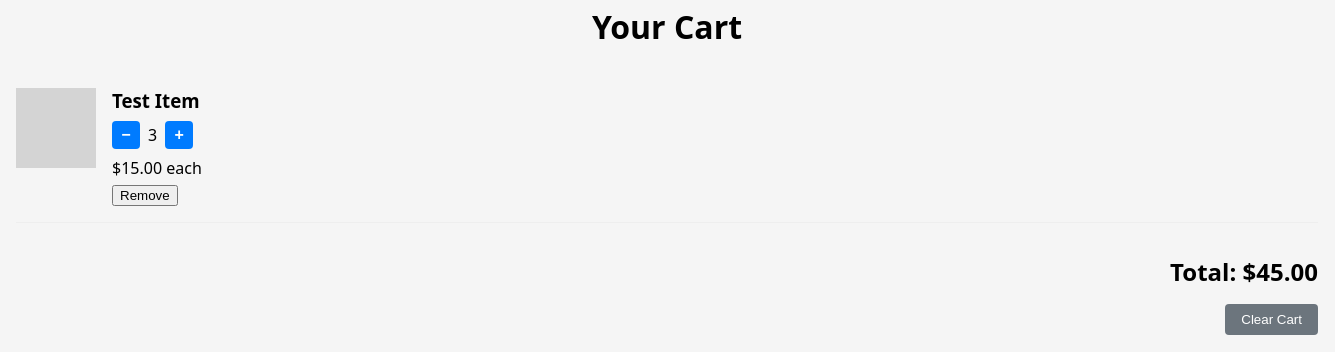
Test: Cart page › decreases quantity when − button is clicked
Click the button "−" at (126, 135), box [112,121,140,149]
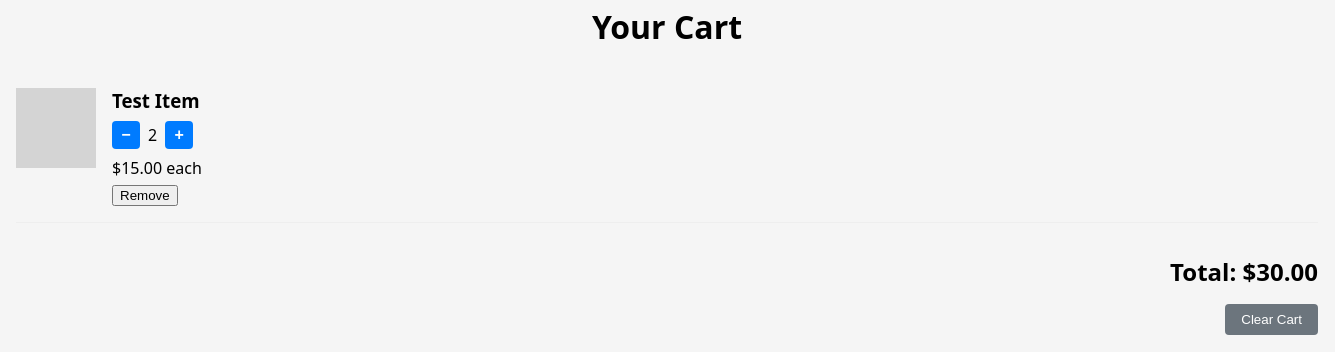
Now the text "2" is shown, box [148,124,157,146]
